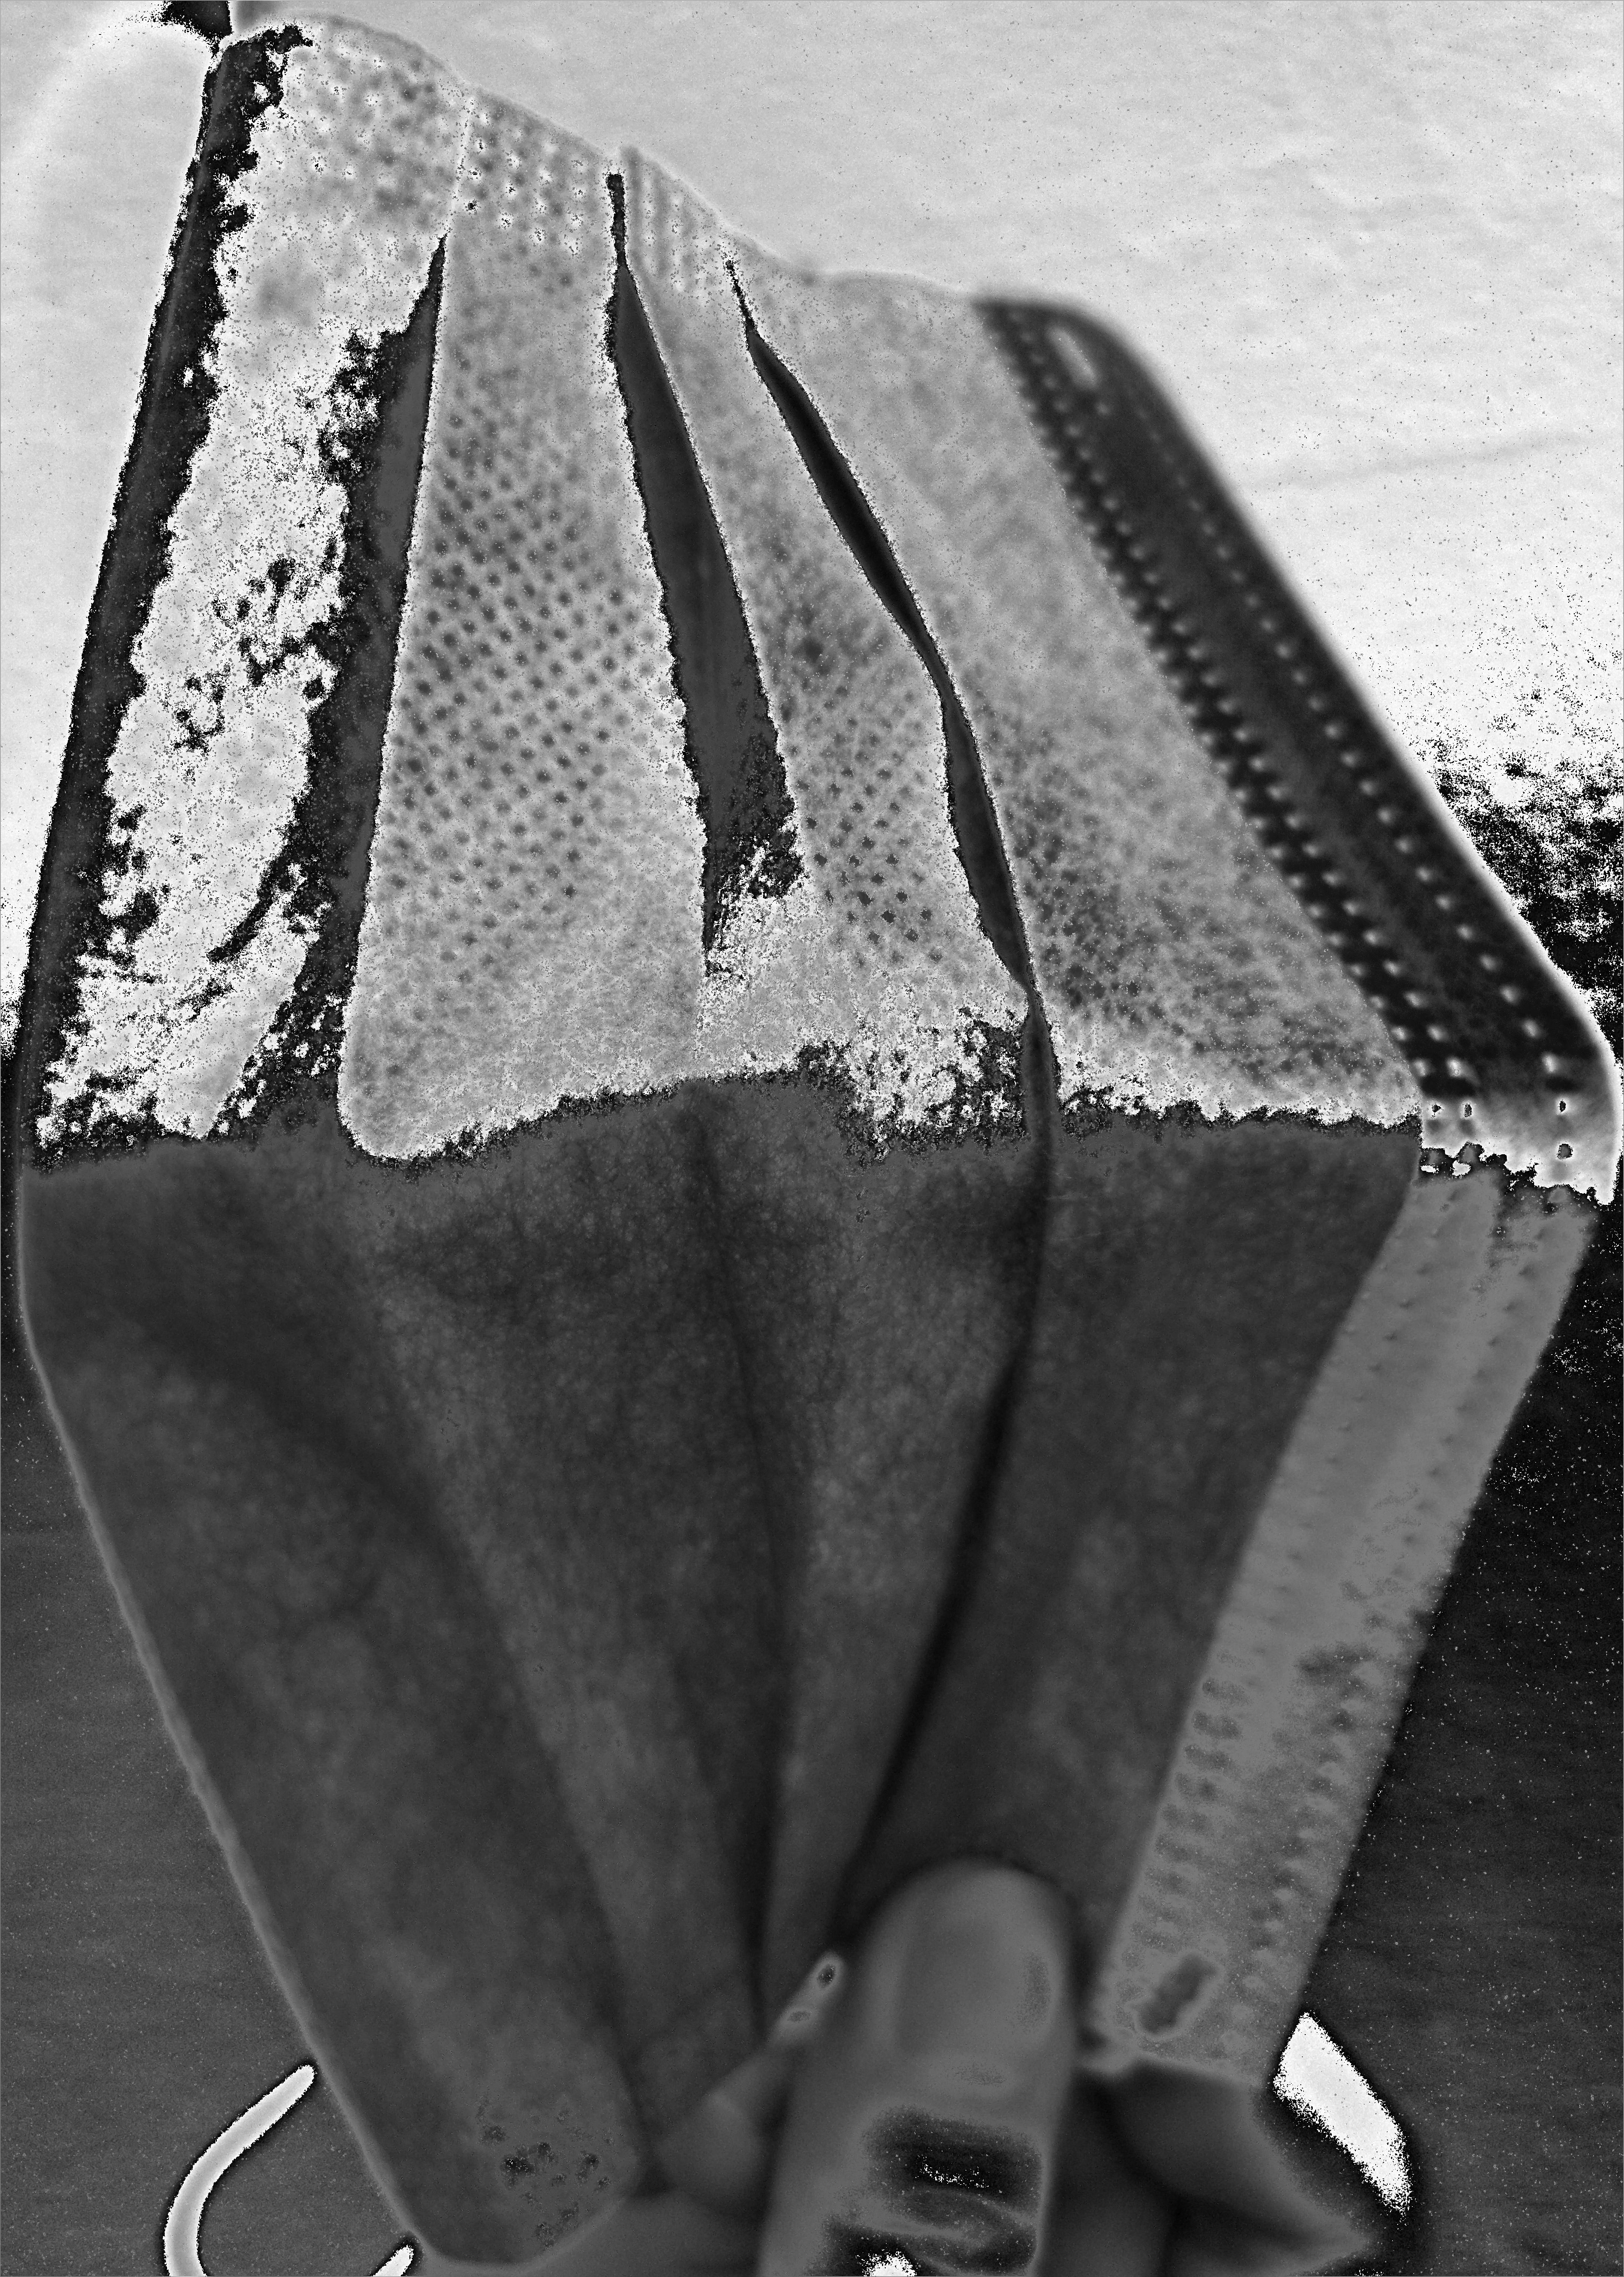Low GSM: (285, 221, 1192, 1110)
Undefined Area: (56, 1225, 1445, 2173), (750, 1859, 1093, 2277)
